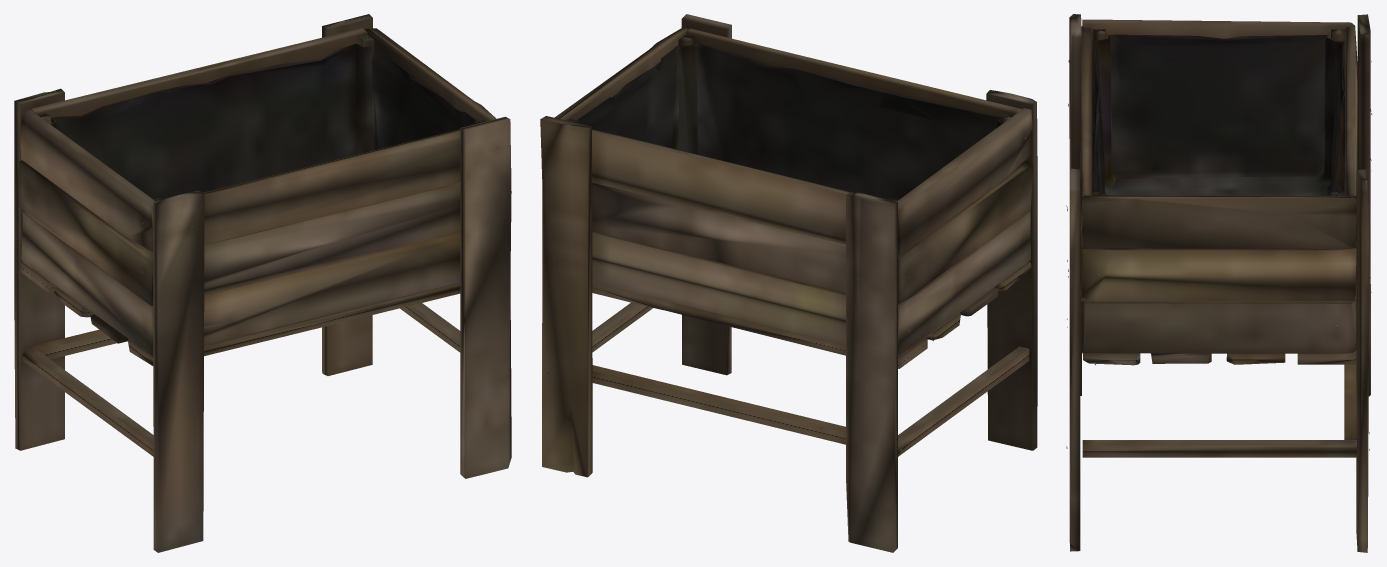
Rendered from planter_box_03_lod2.glb.
3 views of the same model, side by side, from view 1: azimuth 30°, elevation 25°; view 2: azimuth 150°, elevation 25°; view 3: azimuth 270°, elevation 25° (orthographic). The views are drawn at different scales.
Visible parts, largest first — view 1: planter_box_03; view 2: planter_box_03; view 3: planter_box_03.
Part boxes in pixels (x1,y1,x2,y2): planter_box_03: [14, 14, 511, 552]; planter_box_03: [540, 14, 1037, 552]; planter_box_03: [1066, 14, 1372, 552].
Size of the model in its own units: 0.9134 by 0.8545 by 0.6555.
Materials: 1 (1 with a texture image).
